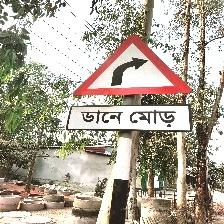Right-turn: (68, 34, 195, 133)
